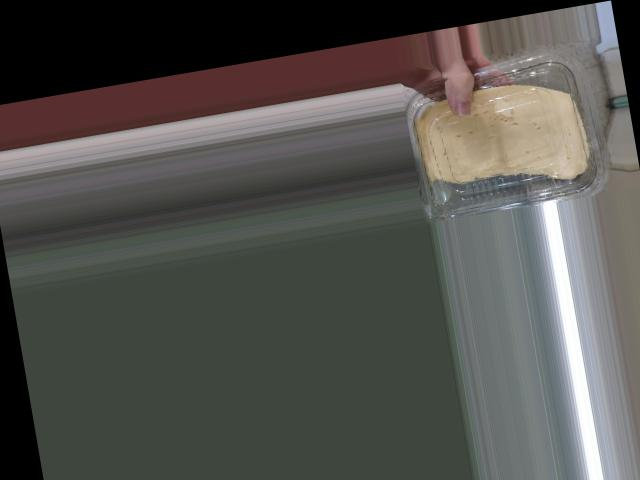cheese: (401, 61, 614, 225)
